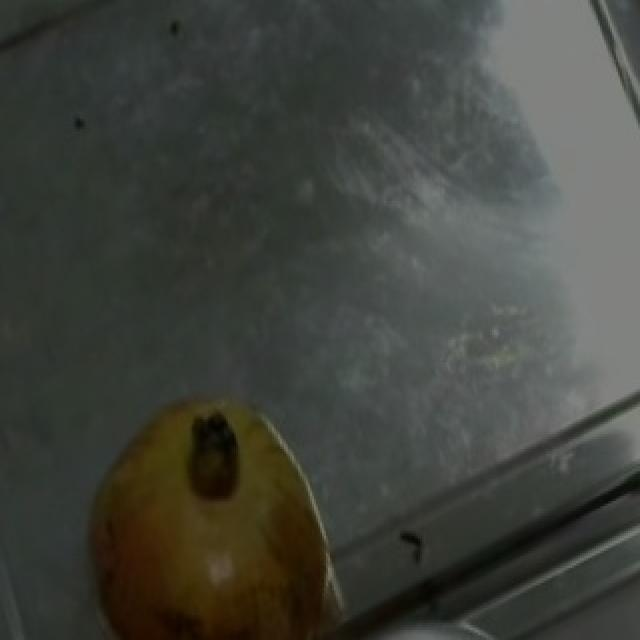fruit: (64, 357, 360, 633)
